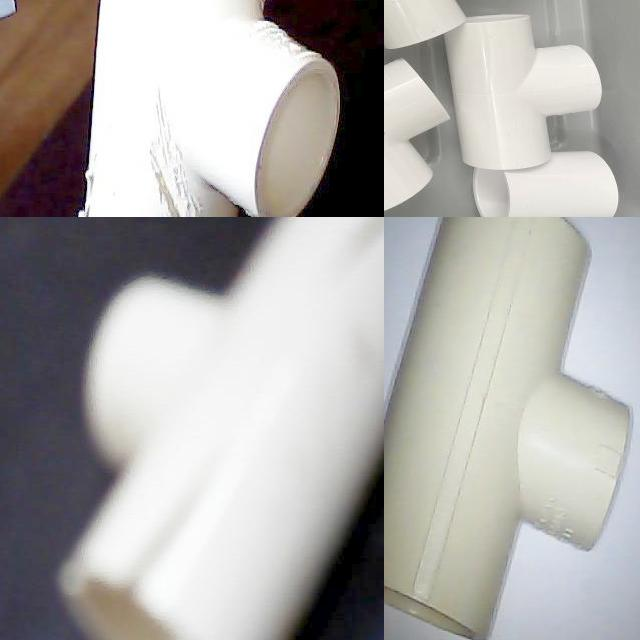Defective: (96, 51, 241, 217), (106, 499, 207, 640), (357, 217, 384, 261)
L Joint: (384, 59, 451, 213)
T Joint: (384, 217, 633, 640), (79, 0, 342, 217), (448, 17, 600, 171), (384, 0, 467, 52)
